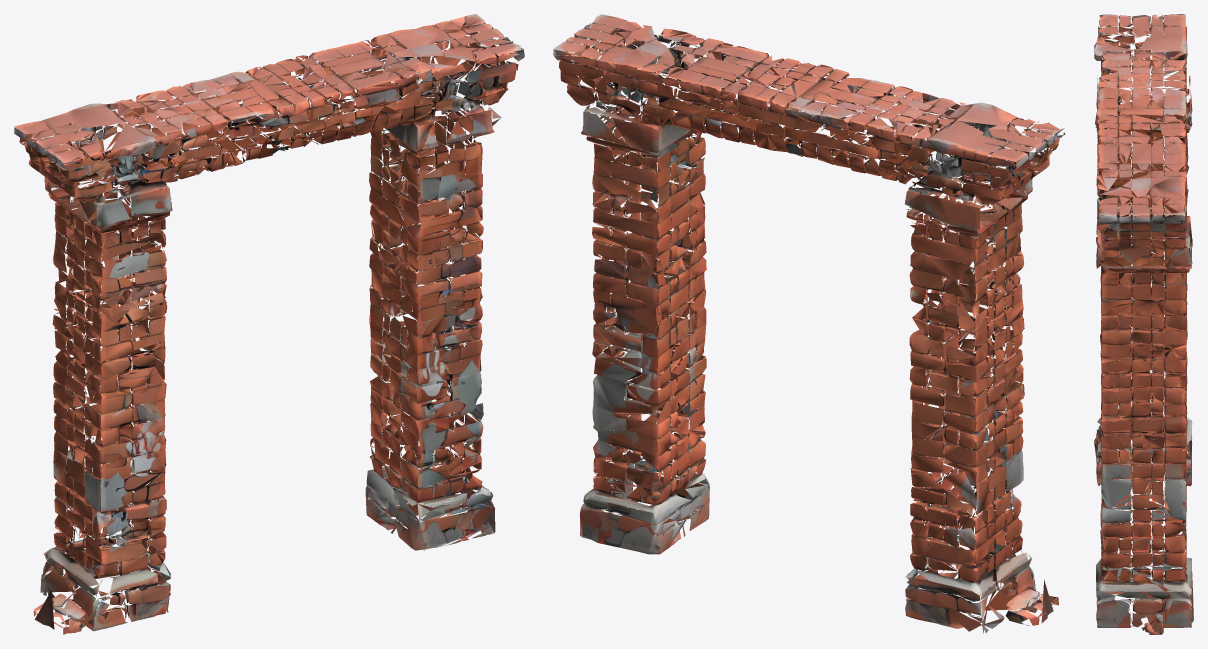
Rendered from doorframe.glb.
The picture shows the model from 3 angles, left to right: view 1: azimuth 30°, elevation 25°; view 2: azimuth 150°, elevation 25°; view 3: azimuth 270°, elevation 25°; orthographic projection. The views are drawn at different scales.
Visible parts, largest first — view 1: model; view 2: model; view 3: model.
Boxes of the visible parts, x1,y1,x2,y2 form: model: [14, 14, 524, 634]; model: [553, 14, 1065, 633]; model: [1094, 14, 1193, 634].
Bounding box in the file's own units: 3.64 × 3.6 × 0.7574.
1 material, 1 textured.
